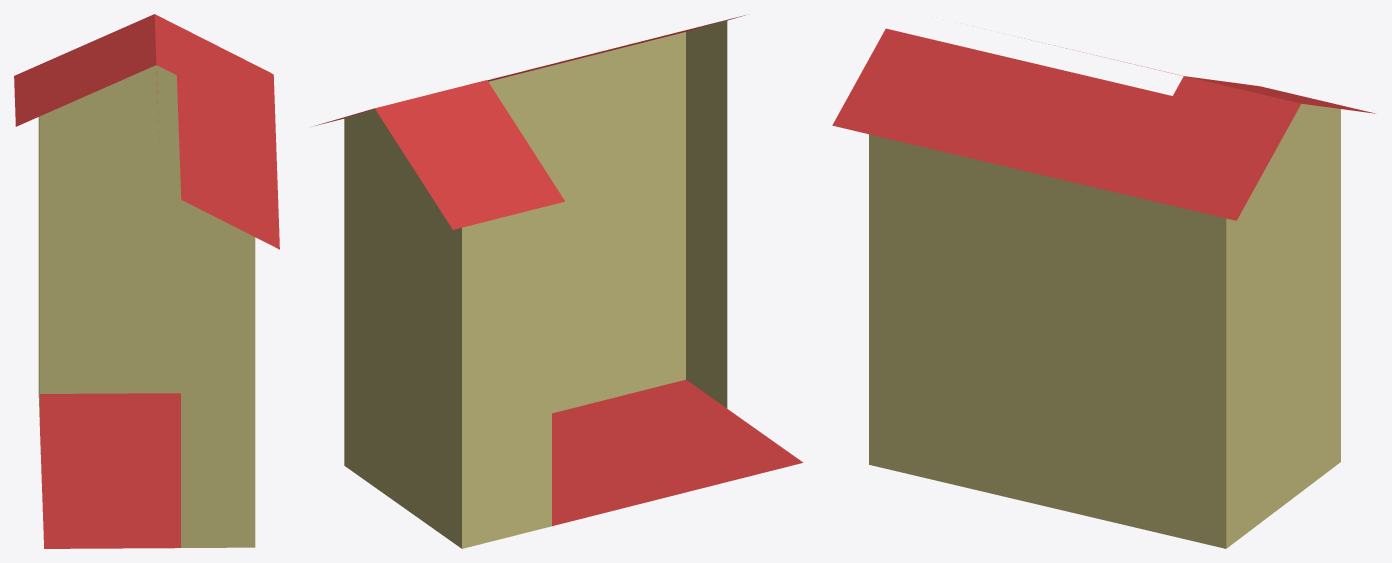
3 views of the same model, side by side, from view 1: azimuth 30°, elevation 25°; view 2: azimuth 150°, elevation 25°; view 3: azimuth 270°, elevation 25° (orthographic). The views are drawn at different scales.
Bounding box in the file's own units: 8.17 × 10.09 × 8.4.
